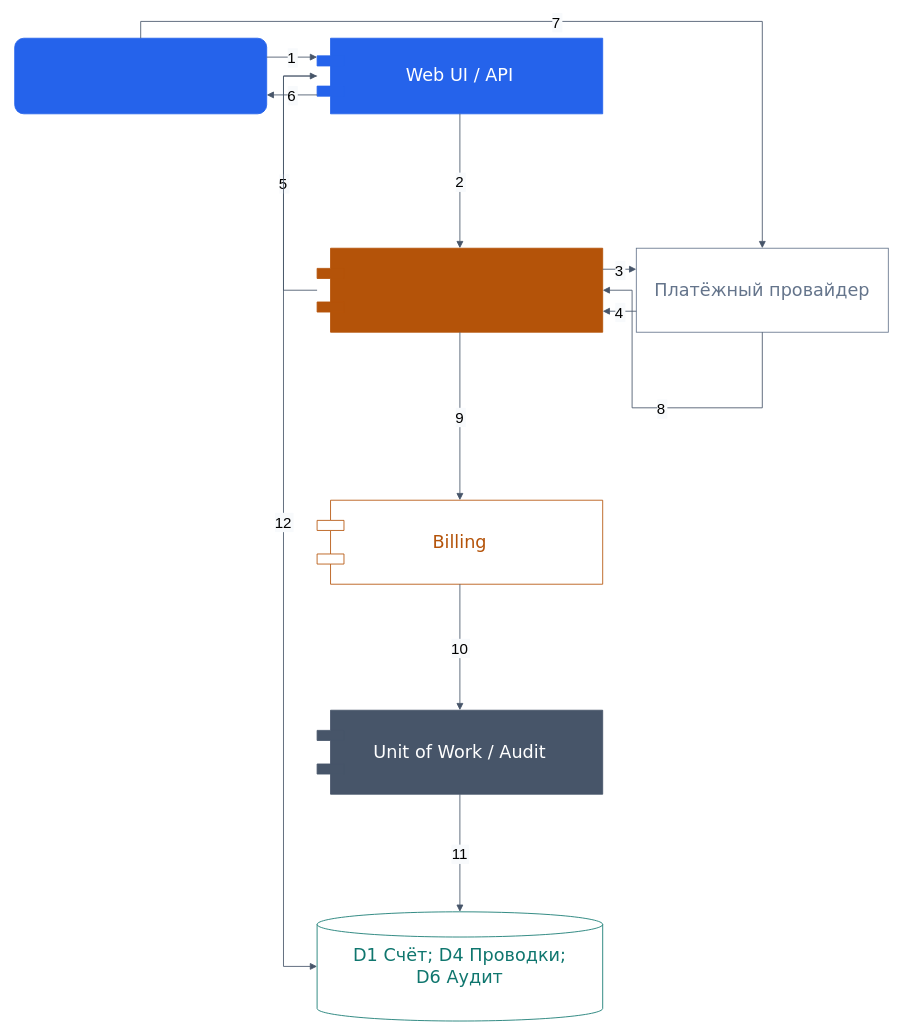
Image size: 903x1036. Some labels were removed from this diagram. Here are the shapes that lost their labels. From the top down, the centre of each, then its label:
At [140,75]: "Клиент".
At [459,289]: "Payment Adapter".
